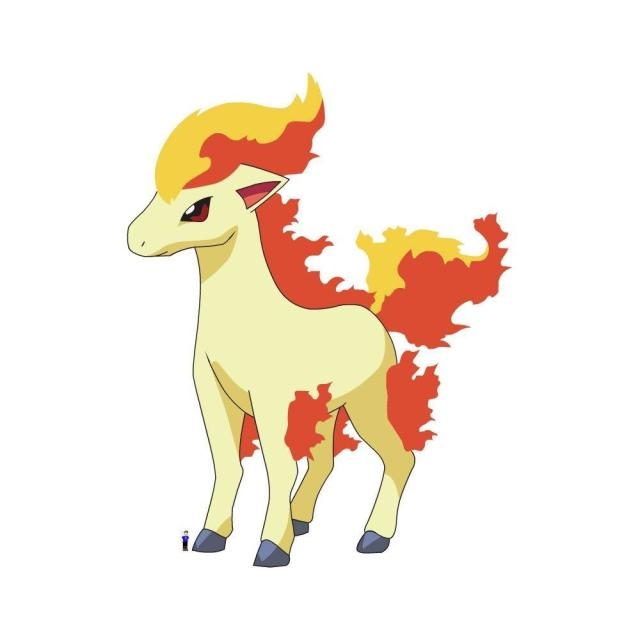Ponyta: (148, 101, 445, 566)
